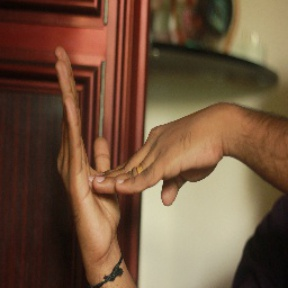Z: (49, 41, 221, 253)
